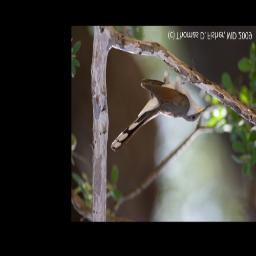Cuckoo: (109, 59, 210, 158)
